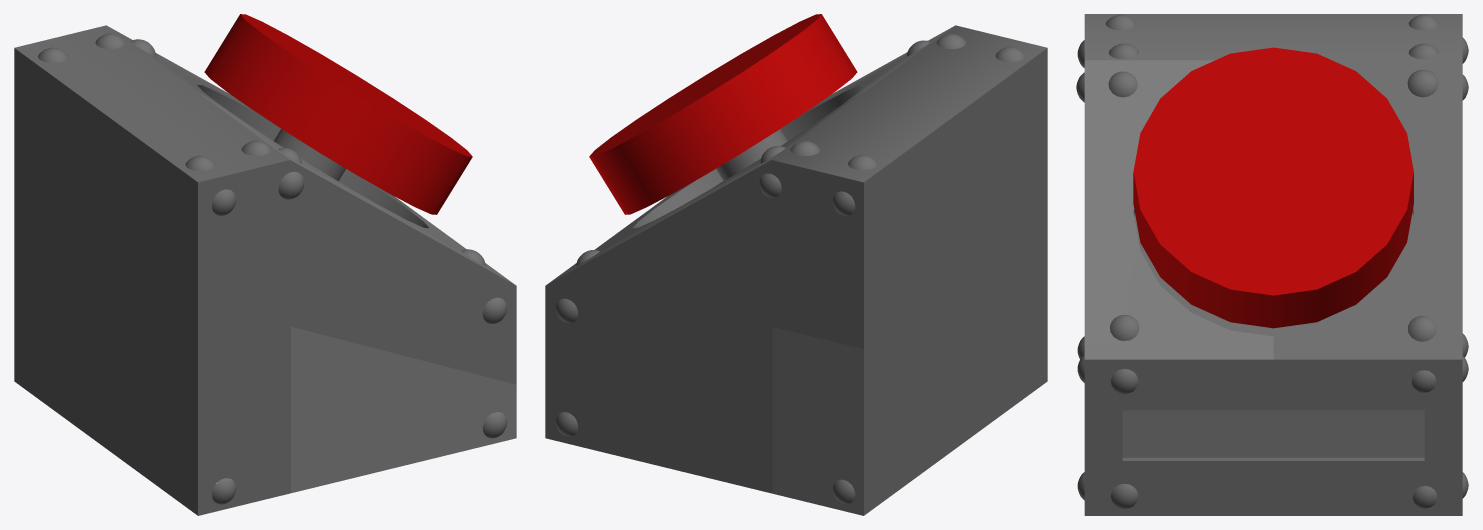
File: ButtonPress.fbx
The picture shows the model from 3 angles, left to right: view 1: azimuth 30°, elevation 25°; view 2: azimuth 150°, elevation 25°; view 3: azimuth 270°, elevation 25°; orthographic projection. The views are drawn at different scales.
Parts seen in each view (by area): view 1: polySurface2, polySurface1; view 2: polySurface2, polySurface1; view 3: polySurface2, polySurface1.
Boxes of the visible parts, box(x1,y1,x2,y2) form: polySurface2: box(14, 25, 516, 515); polySurface1: box(204, 14, 472, 214); polySurface2: box(545, 25, 1047, 515); polySurface1: box(589, 14, 857, 214); polySurface2: box(1076, 14, 1468, 515); polySurface1: box(1133, 47, 1413, 328).
Bounding box in the file's own units: 6.18 × 6.47 × 5.94.
